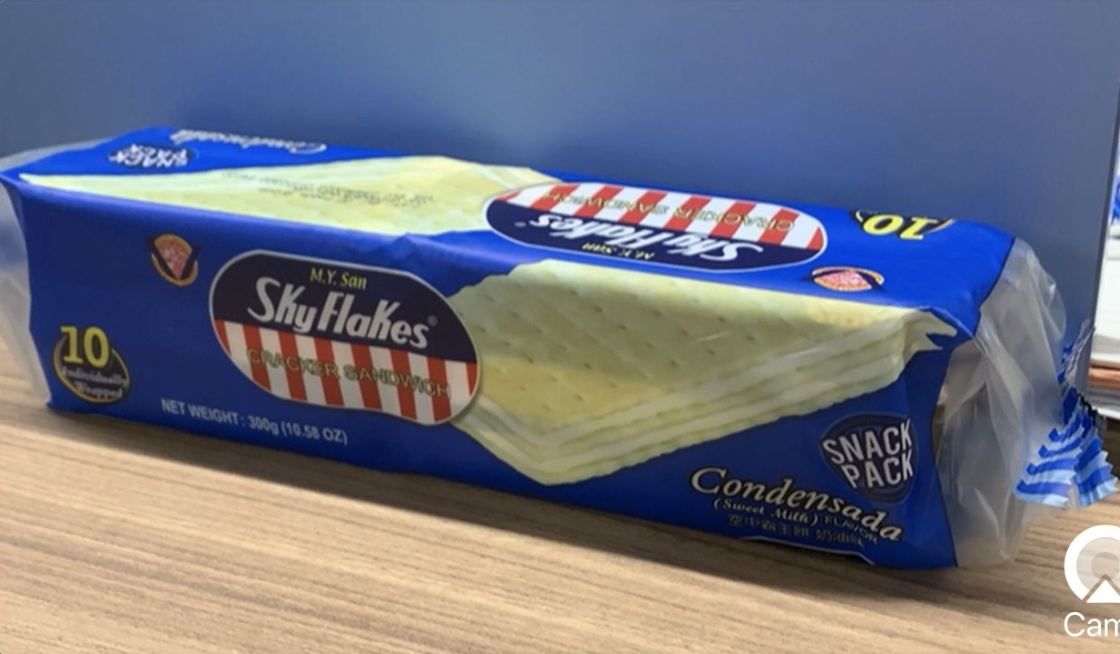crackers_300g-399g: (65, 179, 912, 457)
